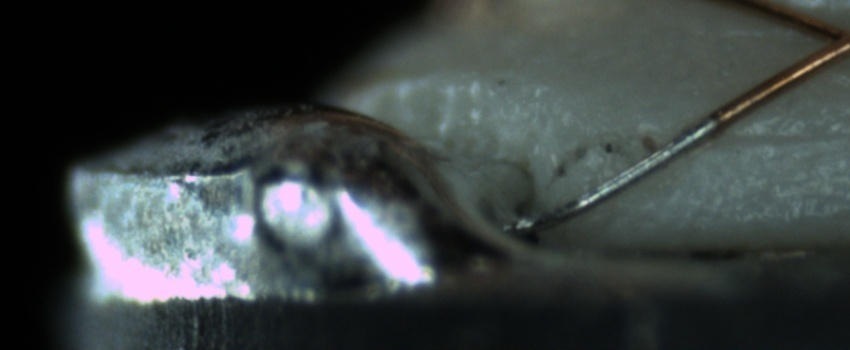CL: (795, 6, 850, 69)
DL: (636, 105, 849, 169)
TS: (506, 114, 719, 237)
